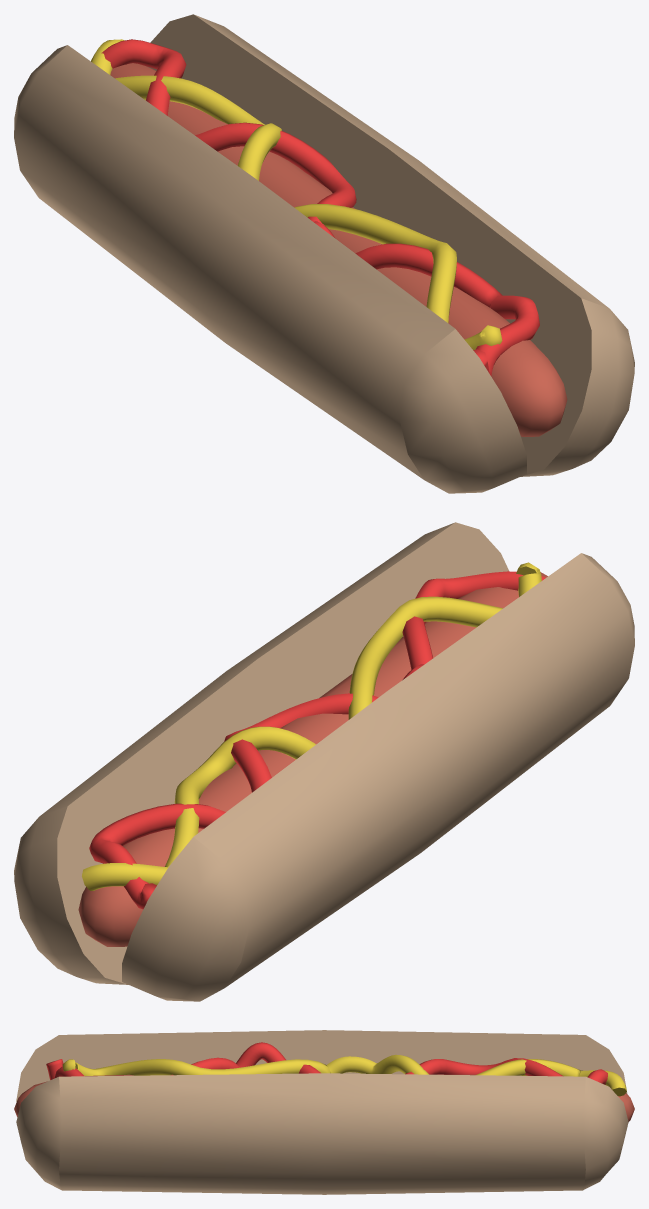
The model's file is Hotdog.fbx.
3 renders of one model, top to bottom at view 1: azimuth 30°, elevation 25°; view 2: azimuth 150°, elevation 25°; view 3: azimuth 270°, elevation 25°, orthographic. The views are drawn at different scales.
Parts seen in each view (by area): view 1: Hotdog; view 2: Hotdog; view 3: Hotdog.
Part boxes in pixels (x1,y1,x2,y2): Hotdog: (14,14,634,493); Hotdog: (14,522,634,1001); Hotdog: (14,1030,634,1194).
Bounding box in the file's own units: 7.36 × 2.3 × 1.63.
